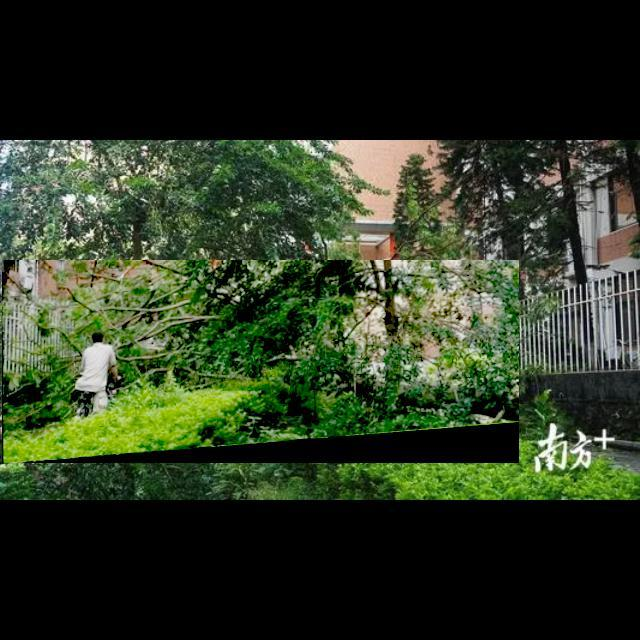fallen_tree: (2, 260, 520, 464)
